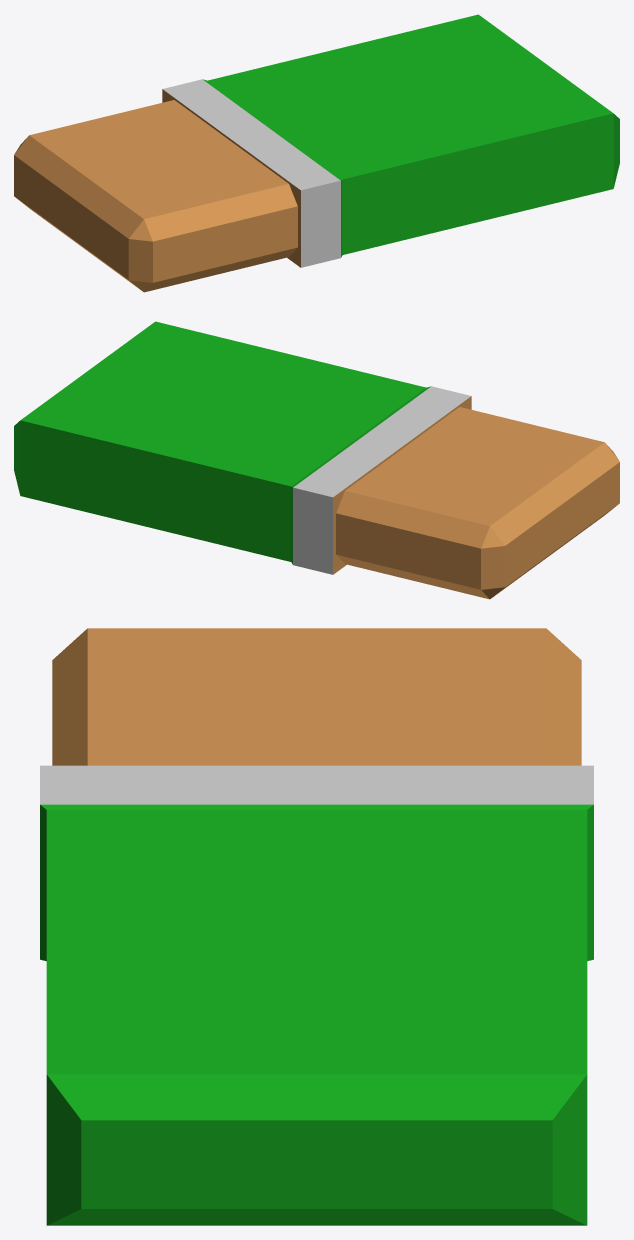
The model's file is Granola.fbx.
3 views of the same model, one above another, from view 1: azimuth 30°, elevation 25°; view 2: azimuth 150°, elevation 25°; view 3: azimuth 270°, elevation 25° (orthographic). The views are drawn at different scales.
Parts seen in each view (by area): view 1: Cube; view 2: Cube; view 3: Cube.
Boxes of the visible parts, x1,y1,x2,y2 form: Cube: (14, 14, 619, 292); Cube: (14, 321, 619, 599); Cube: (40, 628, 593, 1225).
Bounding box in the file's own units: 496 × 75.04 × 243.
